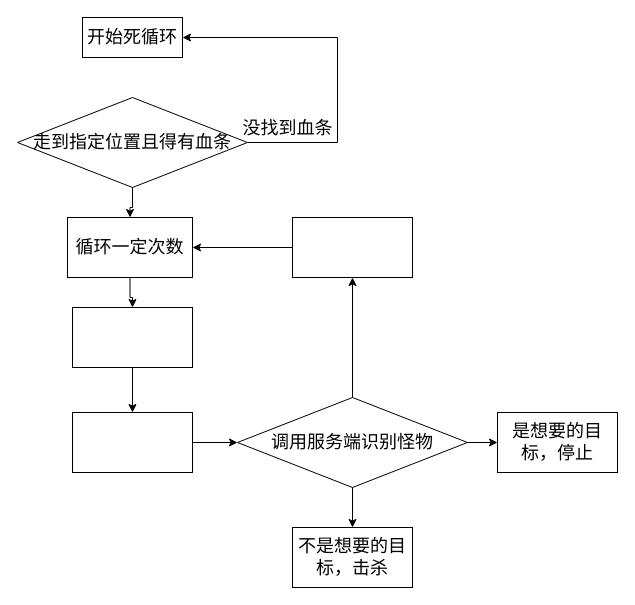
This 635x605 diagram has some shape labels left out. The centre of each missing label's shape, as x and y in pixels:
未识别成功: pixel 352 247
等待怪物刷新: pixel 132 337
策略识别血条的怪: pixel 132 442
